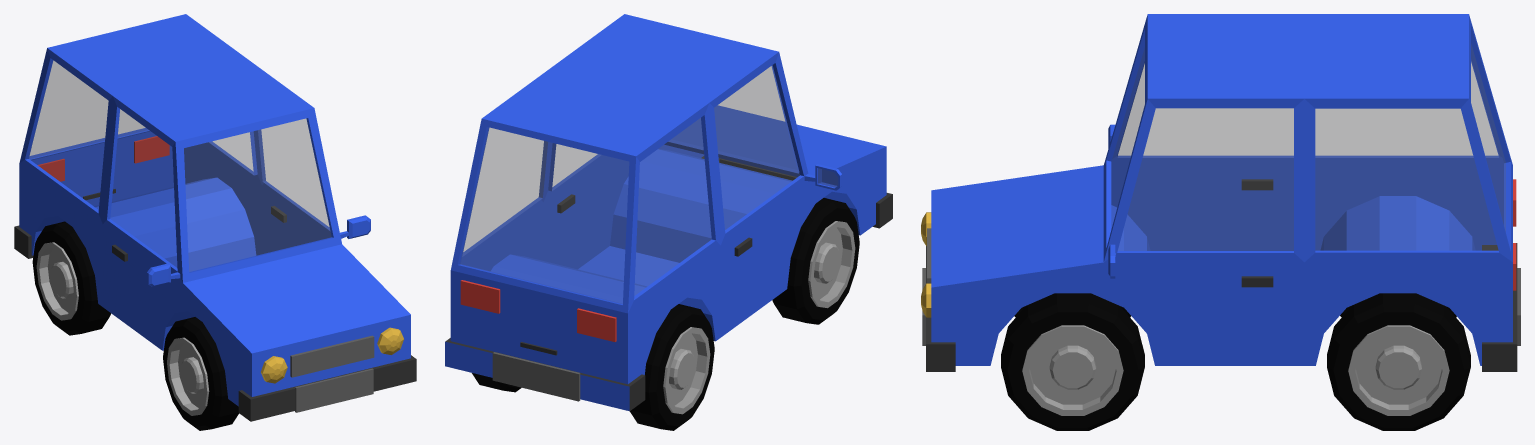
File: car_1.gltf
3 views of the same model, side by side, from view 1: azimuth 30°, elevation 25°; view 2: azimuth 150°, elevation 25°; view 3: azimuth 270°, elevation 25° (orthographic). The views are drawn at different scales.
Visible parts, largest first — view 1: Plane, Cylinder; view 2: Plane, Cylinder; view 3: Plane, Cylinder.
Part boxes in pixels (box(x1,y1,x2,y2)): Plane: box(14, 14, 416, 421); Cylinder: box(32, 221, 238, 430); Plane: box(445, 14, 892, 411); Cylinder: box(472, 198, 859, 430); Plane: box(921, 14, 1520, 371); Cylinder: box(1001, 293, 1470, 430).
Bounding box in the file's own units: 2.23 × 2.49 × 4.16.
